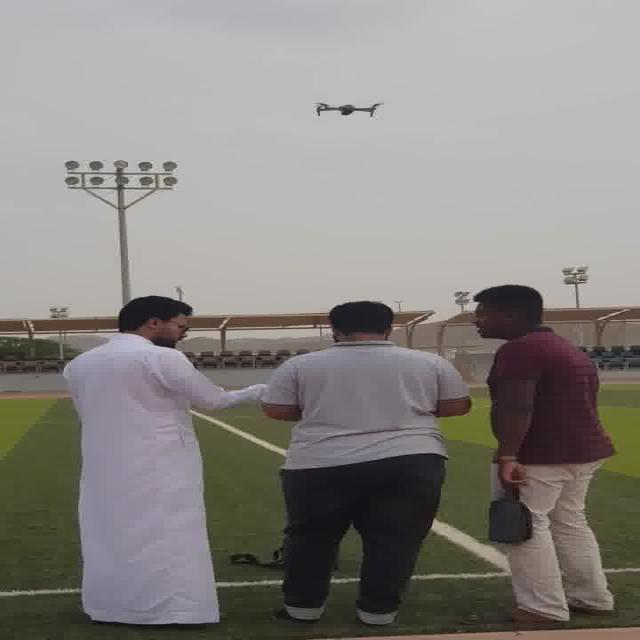drone: (304, 97, 387, 121)
